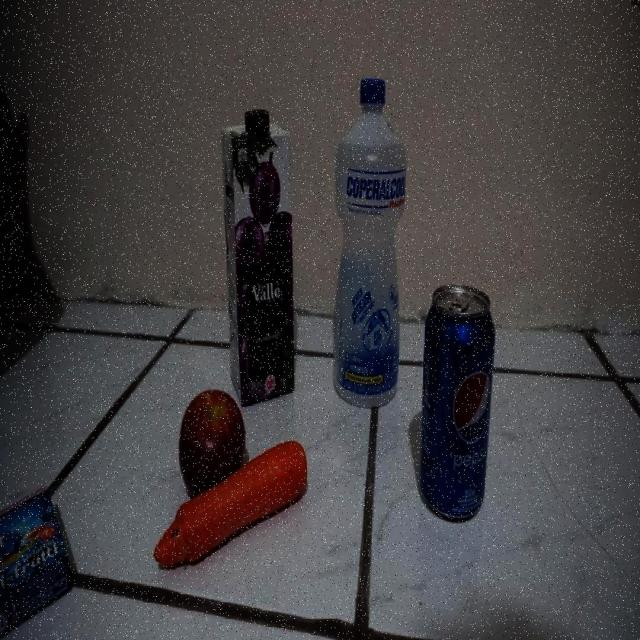AlcoholBottle: (330, 76, 408, 410)
Apple: (177, 387, 248, 500)
Carrot: (152, 440, 312, 570)
Gelatine: (0, 479, 73, 640)
SodaCan: (419, 280, 497, 524)
